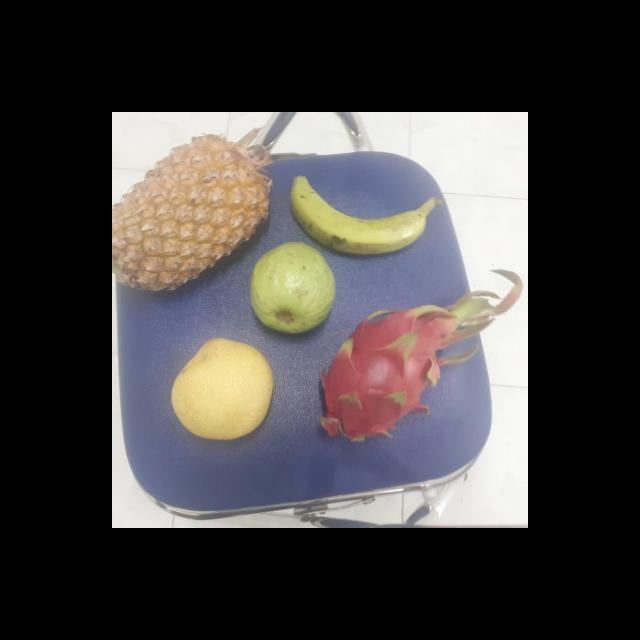banana: (282, 175, 427, 258)
guava: (248, 242, 335, 334)
pear: (167, 337, 273, 439)
pineapple: (112, 139, 267, 295)
pitaya: (313, 306, 456, 443)
